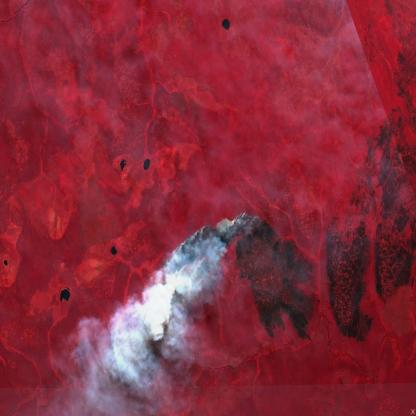fire: (160, 207, 266, 287)
